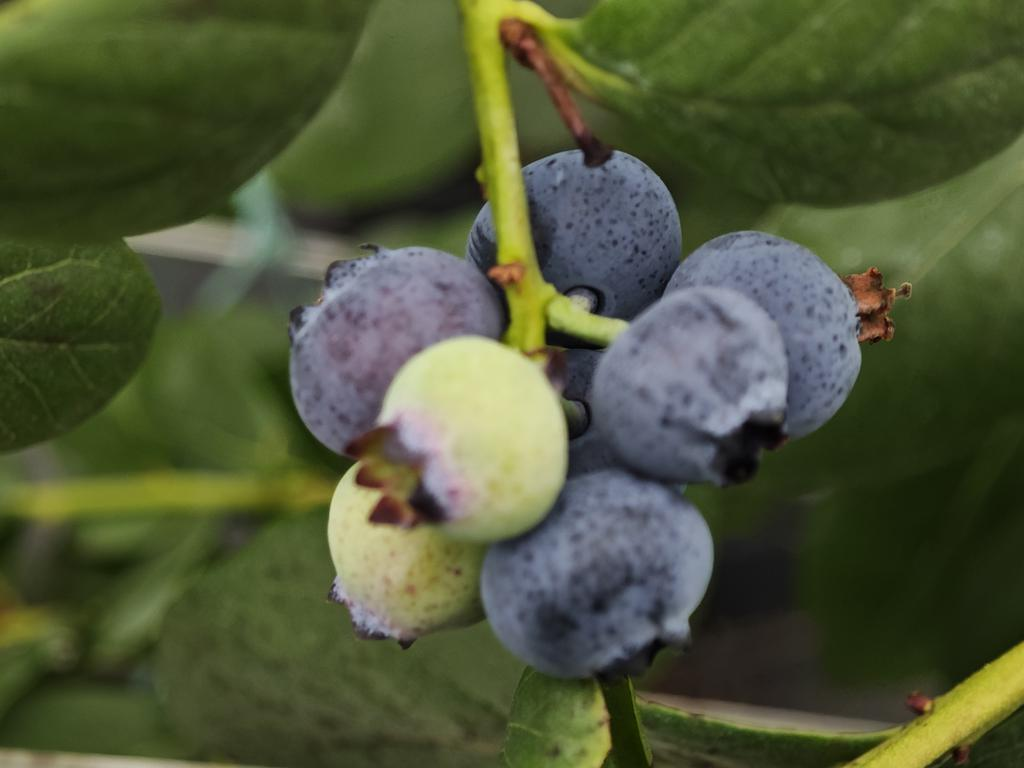RipeBlueBerry: (598, 287, 786, 483)
UnripeBlueBerry: (379, 334, 559, 537)
